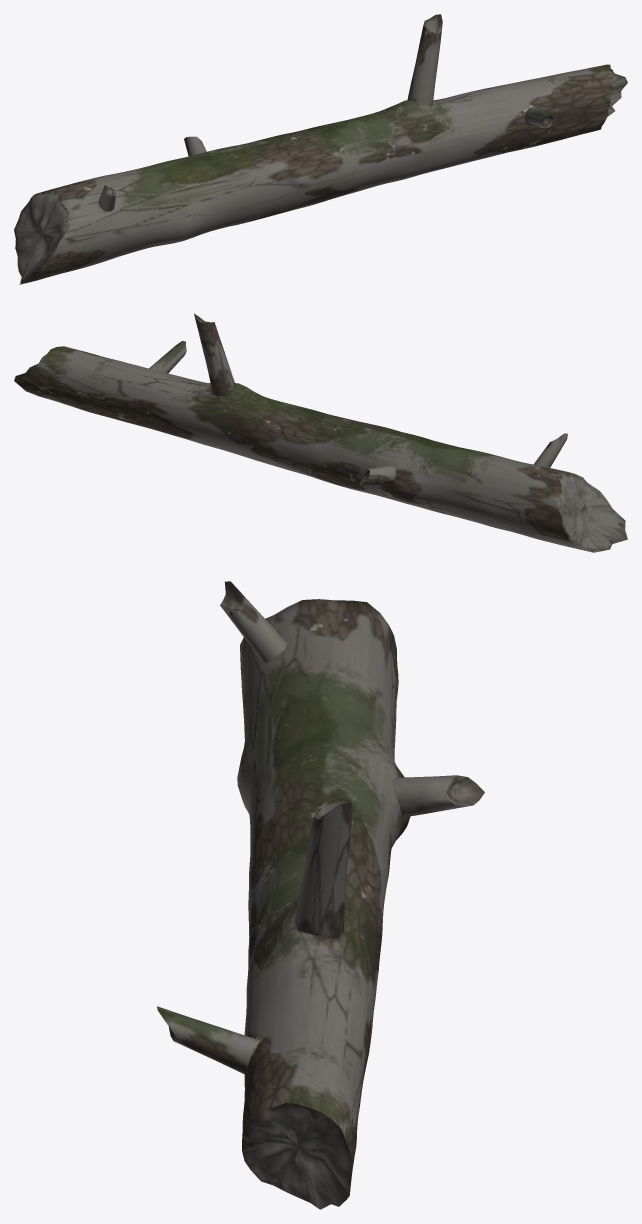
File: log_b.glb
3 renders of one model, top to bottom at view 1: azimuth 30°, elevation 25°; view 2: azimuth 150°, elevation 25°; view 3: azimuth 270°, elevation 25°, orthographic. The views are drawn at different scales.
Visible parts, largest first — view 1: log_b; view 2: log_b; view 3: log_b.
Boxes of the visible parts, x1,y1,x2,y2 form: log_b: (14,14,627,284); log_b: (14,313,627,552); log_b: (157,581,484,1209).
Size of the model in its own units: 4.1 by 0.9598 by 0.9828.
1 material, 1 textured.
